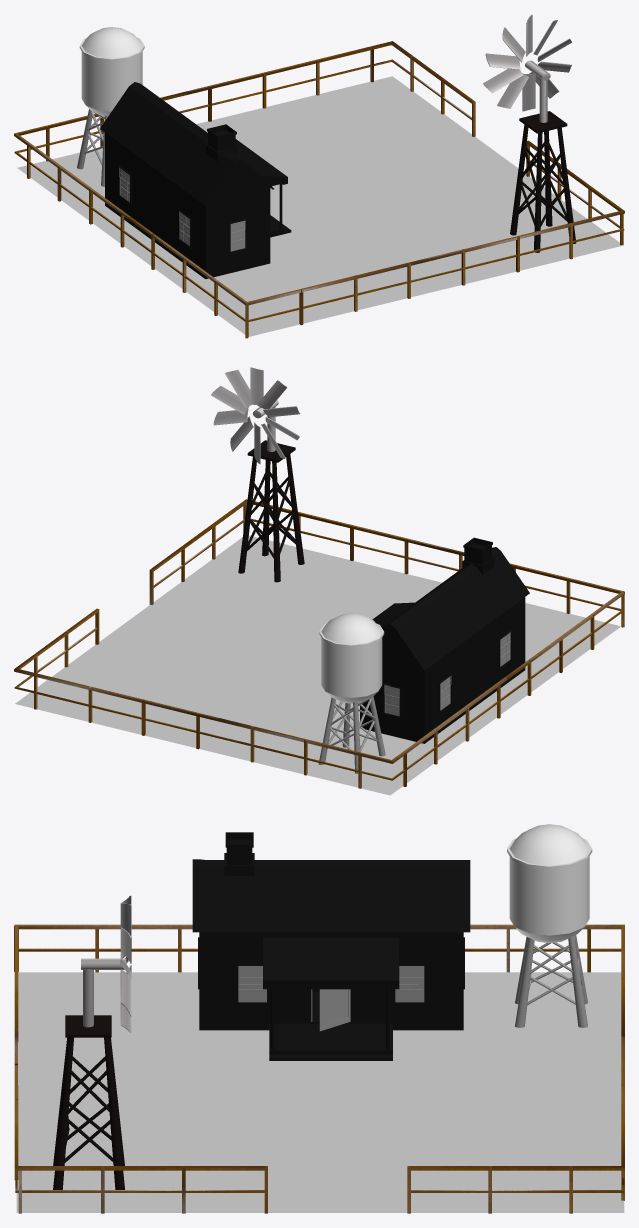
Rendered from granny's house.FBX.
The picture shows the model from 3 angles, top to bottom: view 1: azimuth 30°, elevation 25°; view 2: azimuth 150°, elevation 25°; view 3: azimuth 270°, elevation 25°; orthographic projection. The views are drawn at different scales.
Visible parts, largest first — view 1: Plane001, Box002, Railing023, OilTank001, Box005, blades, Box006, Box004, Sphere001, Railing019; view 2: Plane001, Box002, Railing023, OilTank001, Box005, blades, Box006, Box004; view 3: Plane001, Box002, Railing023, OilTank001, Box005, Box006, blades, Box004, PivotDoor001, Sphere001, Railing018, Railing015.
Part boxes in pixels (x1=…): Plane001: x1=17, y1=76, x2=623, y2=336; Box002: x1=100, y1=82, x2=291, y2=279; Railing023: x1=14, y1=41, x2=624, y2=338; OilTank001: x1=79, y1=27, x2=144, y2=116; Box005: x1=510, y1=111, x2=576, y2=252; blades: x1=483, y1=14, x2=571, y2=111; Box006: x1=77, y1=109, x2=108, y2=186; Box004: x1=206, y1=124, x2=237, y2=161; Sphere001: x1=525, y1=60, x2=550, y2=122; Railing019: x1=230, y1=220, x2=245, y2=251; Plane001: x1=15, y1=535, x2=620, y2=795; Box002: x1=360, y1=547, x2=529, y2=743; Railing023: x1=14, y1=499, x2=624, y2=788; OilTank001: x1=319, y1=613, x2=384, y2=703; Box005: x1=238, y1=440, x2=304, y2=582; blades: x1=211, y1=367, x2=300, y2=464; Box006: x1=318, y1=696, x2=385, y2=773; Box004: x1=462, y1=537, x2=493, y2=575; Plane001: x1=16, y1=972, x2=624, y2=1212; Box002: x1=192, y1=859, x2=470, y2=1060; Railing023: x1=14, y1=924, x2=624, y2=1213; OilTank001: x1=507, y1=824, x2=592, y2=943; Box005: x1=53, y1=1015, x2=124, y2=1189; Box006: x1=515, y1=935, x2=587, y2=1027; blades: x1=120, y1=895, x2=131, y2=1032; Box004: x1=224, y1=832, x2=254, y2=875; PivotDoor001: x1=311, y1=989, x2=350, y2=1031; Sphere001: x1=81, y1=958, x2=126, y2=1027; Railing018: x1=395, y1=966, x2=424, y2=1002; Railing015: x1=238, y1=966, x2=266, y2=1002.
Bounding box in the file's own units: 1612 × 873 × 1712.
